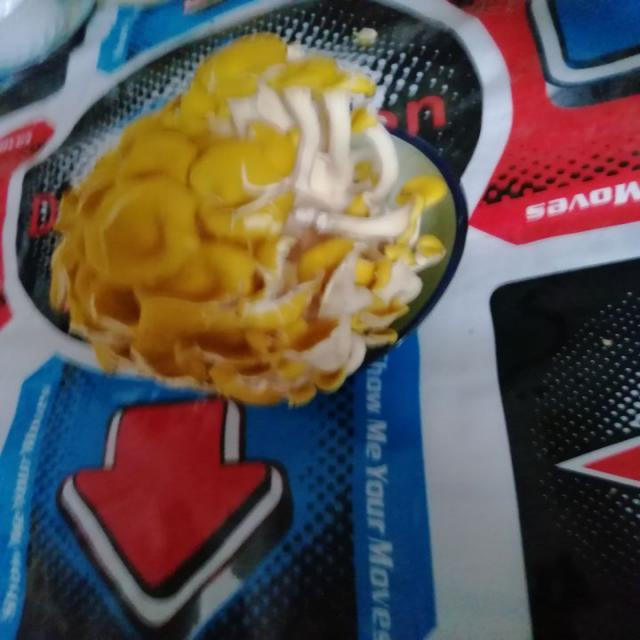Pleurotus citrinopileatus: (61, 32, 452, 399)
